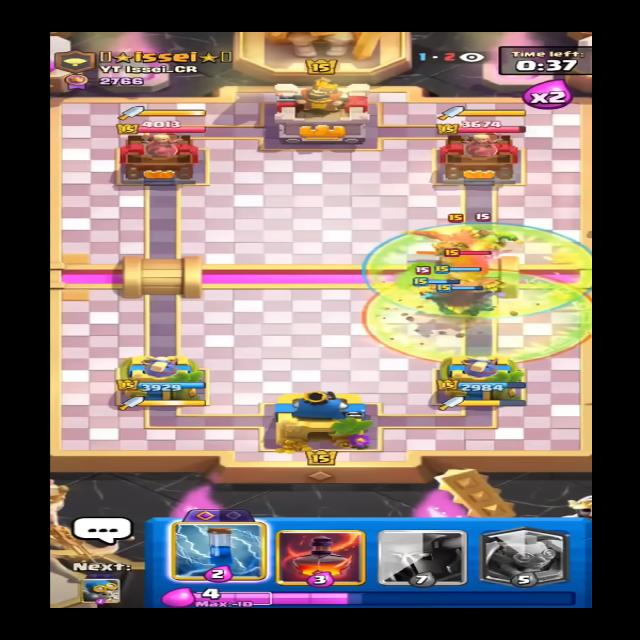goblin-curse: (363, 268, 601, 372)
pekka: (425, 238, 513, 280)
phoenix: (412, 218, 500, 260)
